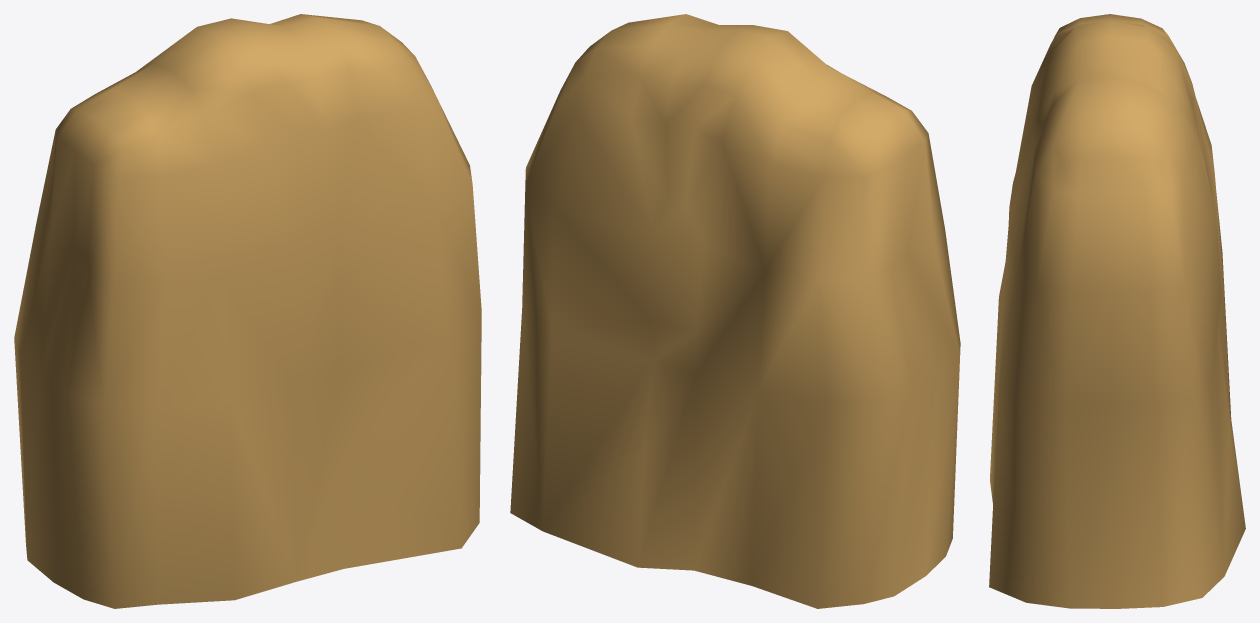
File: LOD1_petit_mur.fbx
3 views of the same model, side by side, from view 1: azimuth 30°, elevation 25°; view 2: azimuth 150°, elevation 25°; view 3: azimuth 270°, elevation 25° (orthographic). The views are drawn at different scales.
Visible parts, largest first — view 1: Petit_mur_LOD1; view 2: Petit_mur_LOD1; view 3: Petit_mur_LOD1.
Part boxes in pixels (x1,y1,x2,y2): Petit_mur_LOD1: (14, 14, 481, 608); Petit_mur_LOD1: (510, 14, 960, 608); Petit_mur_LOD1: (989, 14, 1245, 608).
Size of the model in its own units: 1908 by 2264 by 1090.
